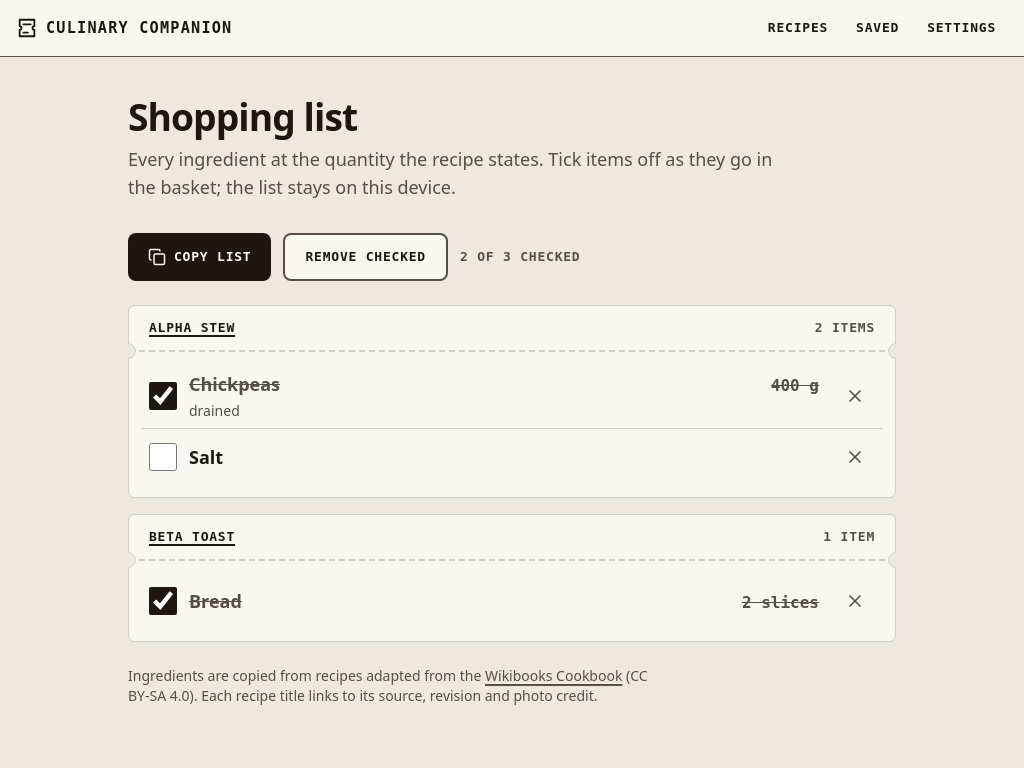
Test case: ShoppingListScreen › removes every checked item, persists it, and focuses the heading when rows remain
The width and height of the screenshot is (1024, 768).
Click the button "Remove checked".
click(366, 257)  # box [284,233,448,281]
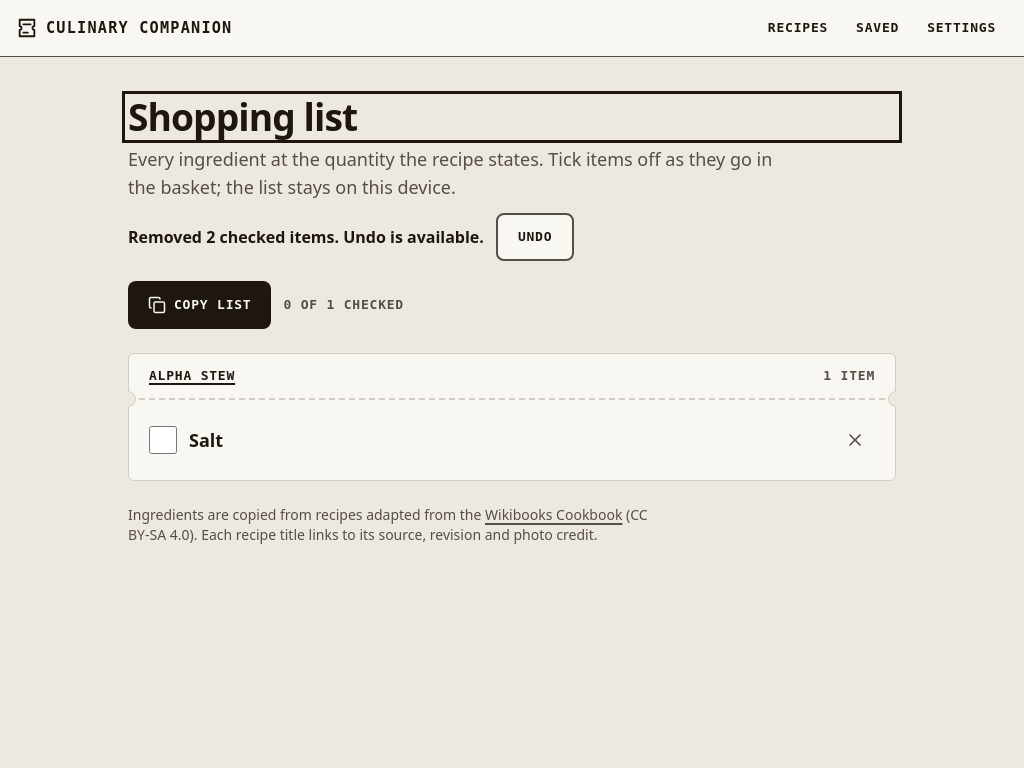
Expected: the text "0 of 1 checked" is shown, [284,297,404,313]
Expected: the message reads "Removed 2 checked items. Undo is available.", [128,226,484,248]
